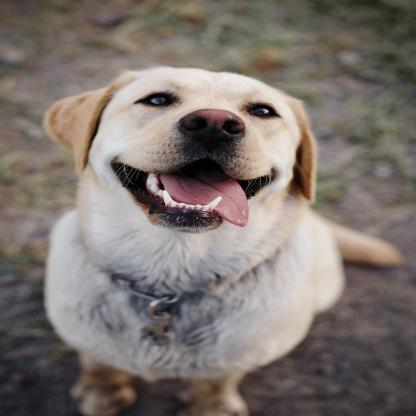Labarador Retriever: (39, 67, 400, 416)
